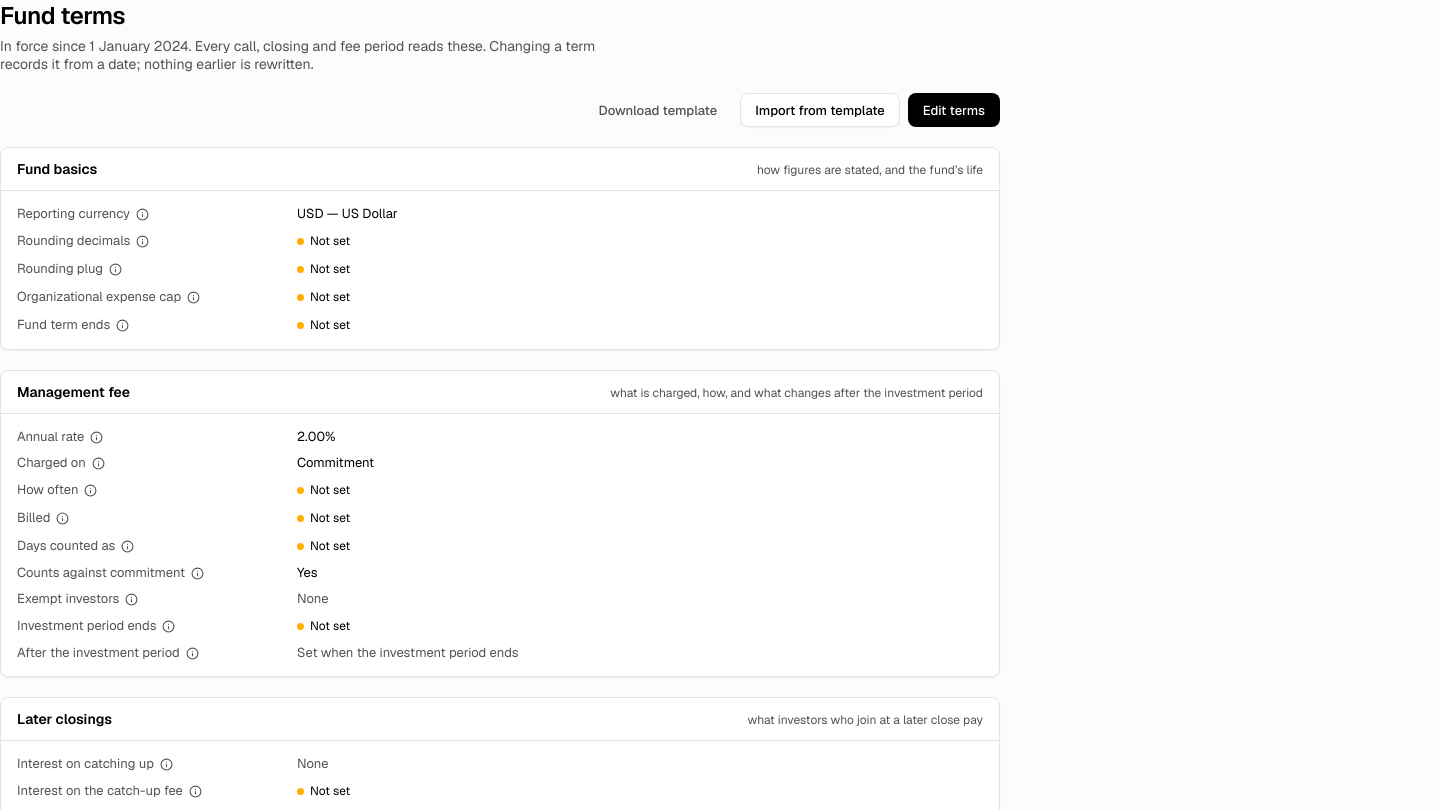
Test: recording a change › stops a rate typed as a percentage, and saves nothing
Click the button "Edit terms" at point(954, 110), box [908,93,1000,127]
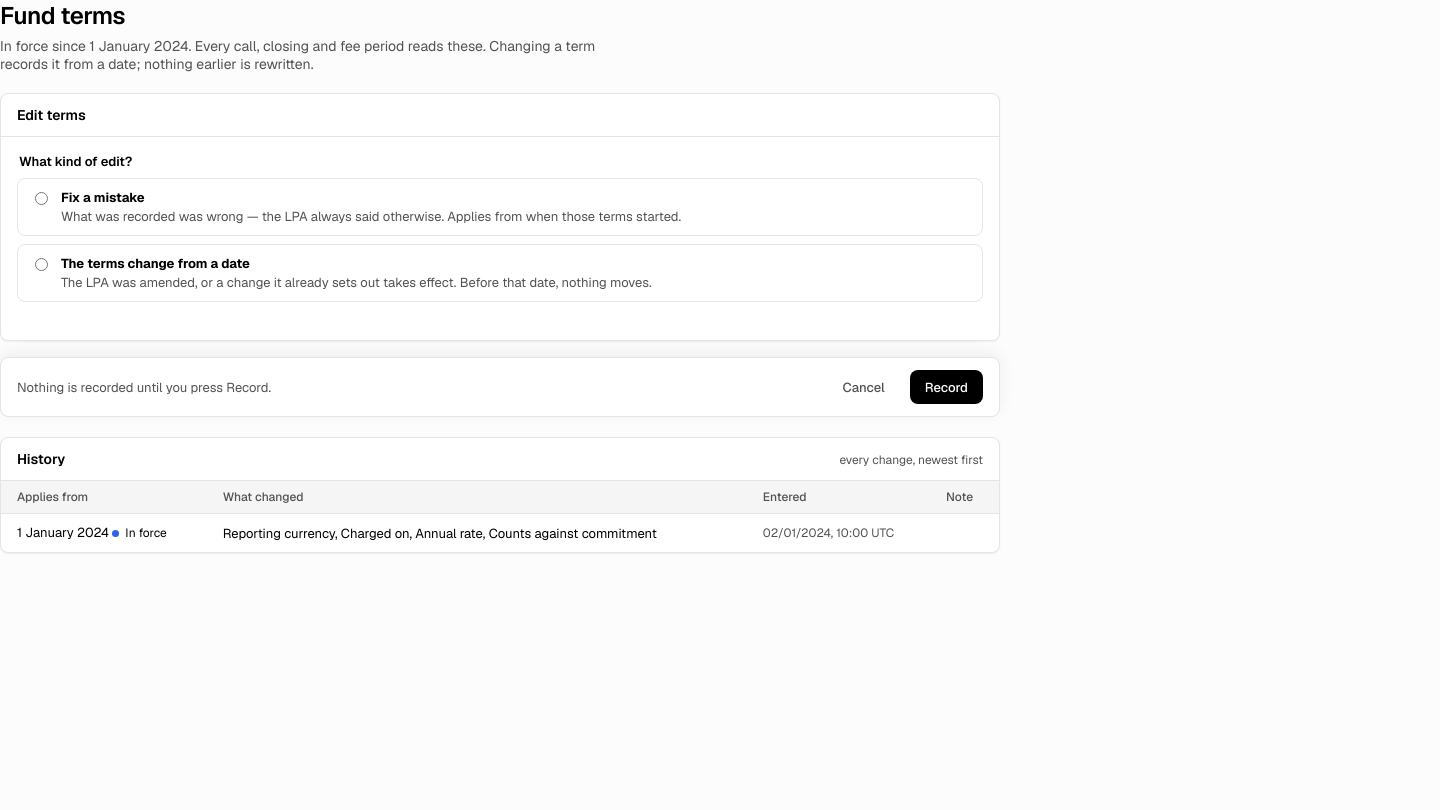
Click the radio button labelled "The terms change from a date" at point(42, 264), box [35,258,48,271]
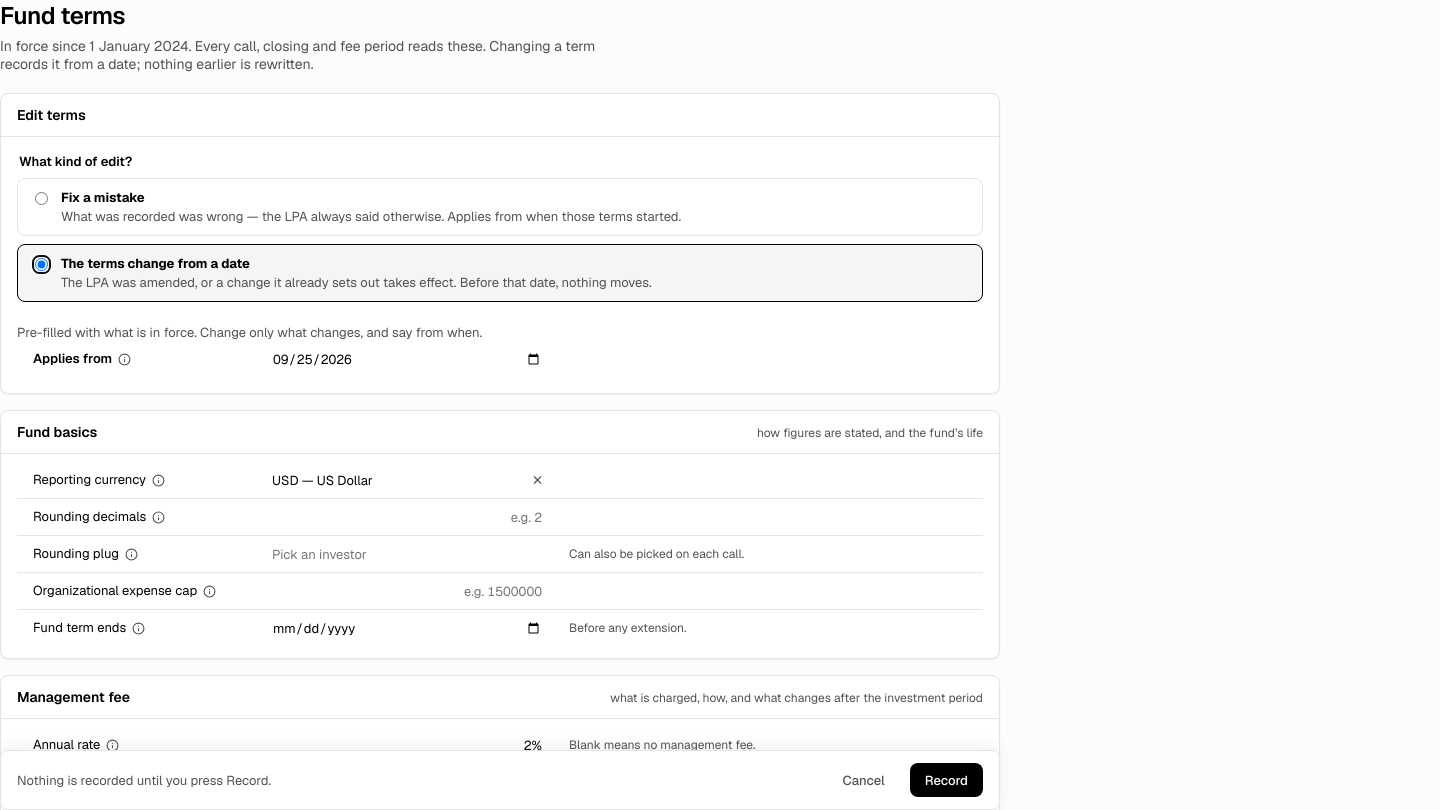
Replace the text in the field named "Annual rate" with "2" at point(407, 745), box [263,730,551,760]
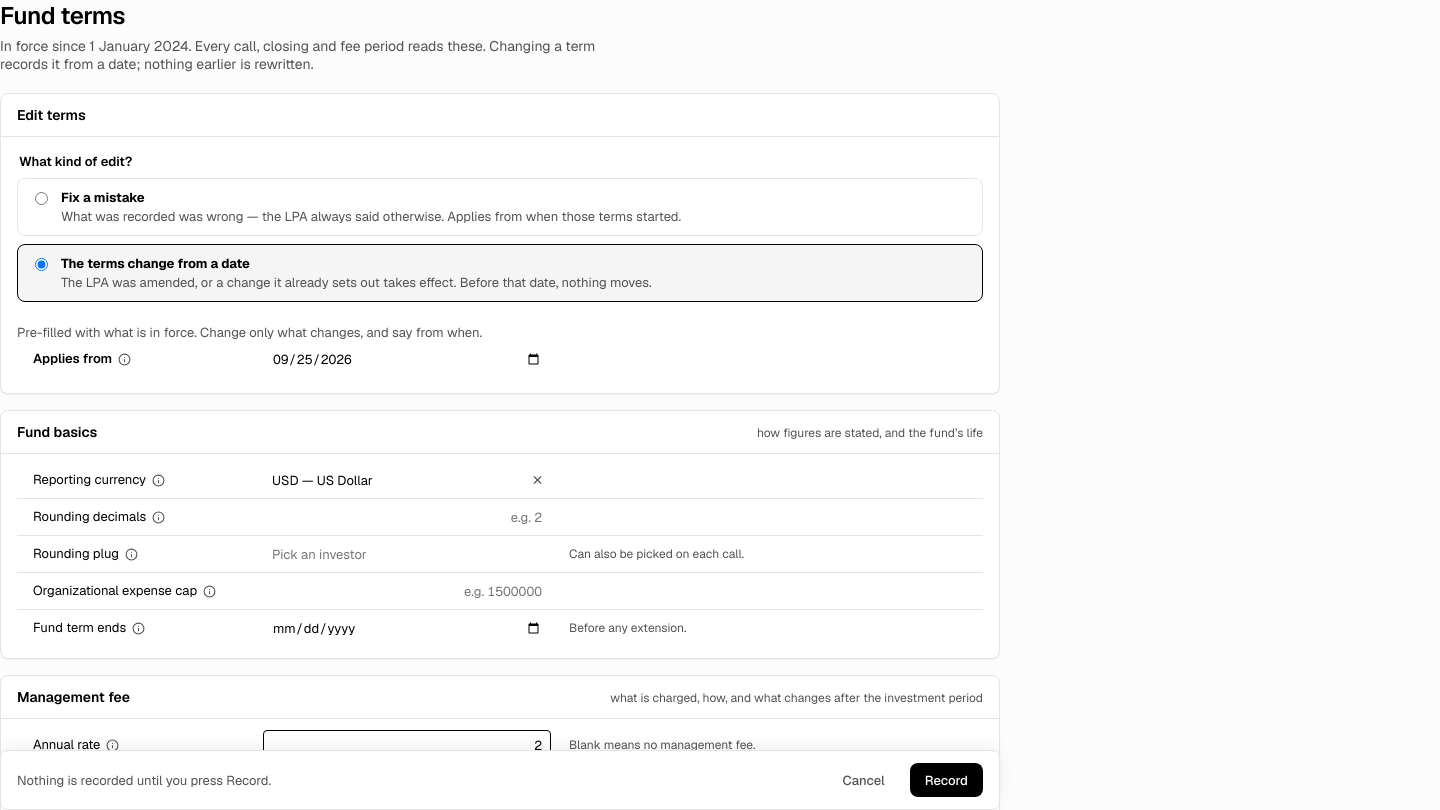
Click the button "Record" at point(946, 780), box [910,763,983,797]
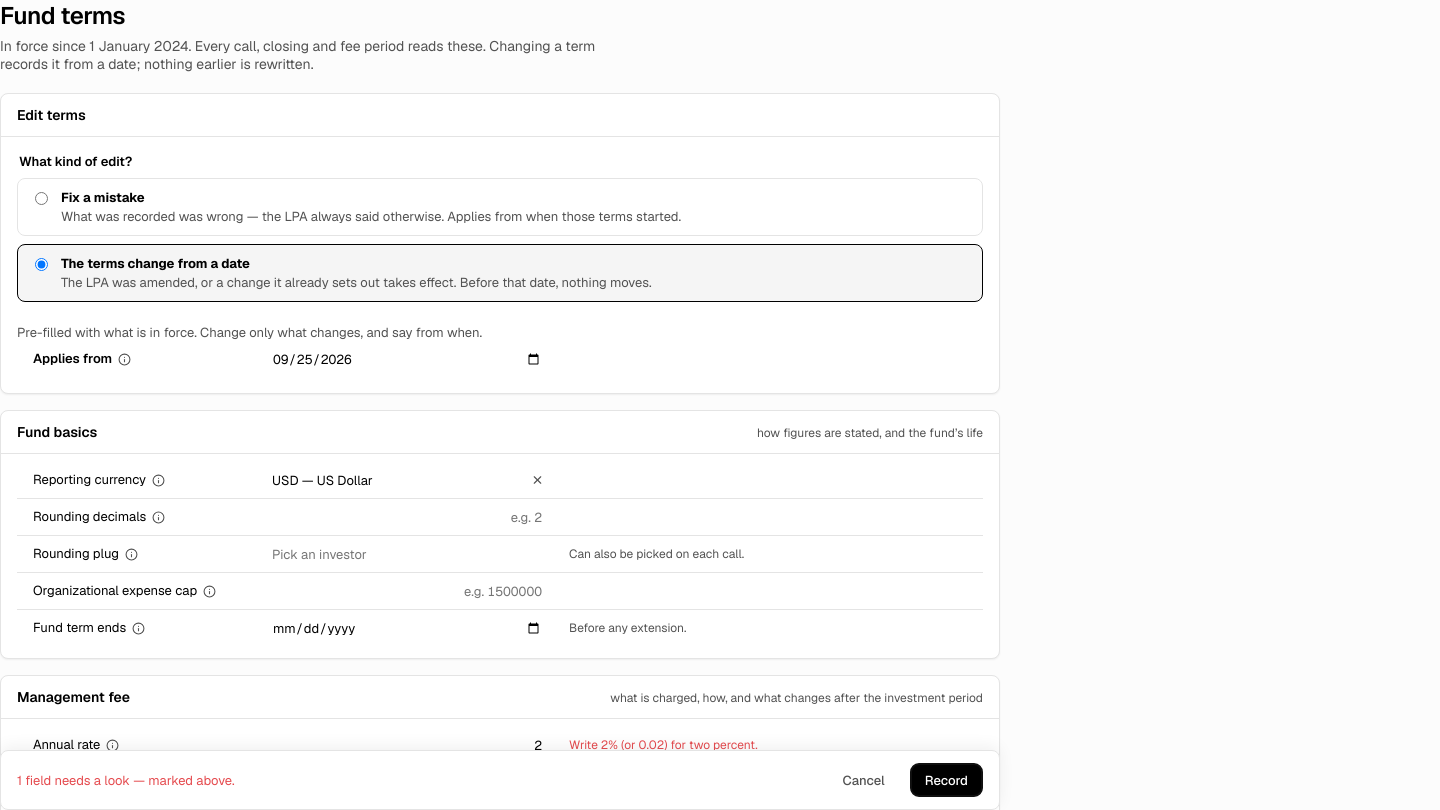
Now the message "Write 2% (or 0.02) for two percent." is shown, box [569,737,758,753]
